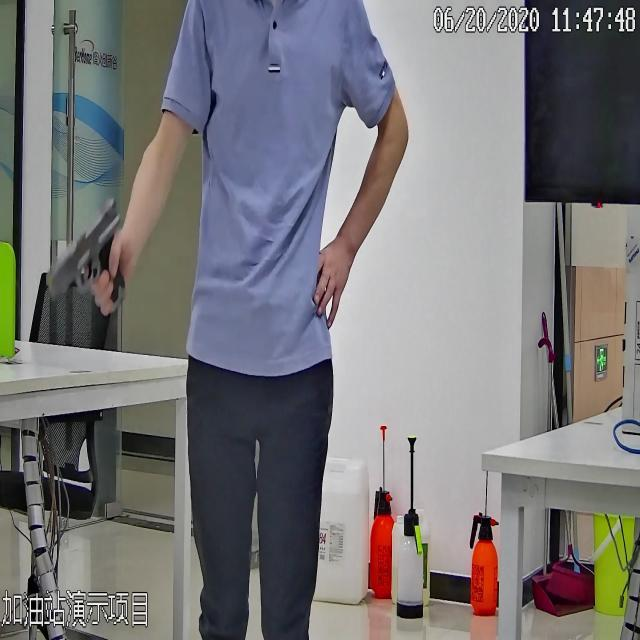gun-knife-thesis - v11 Yolov5 augmented: (43, 201, 132, 316)
